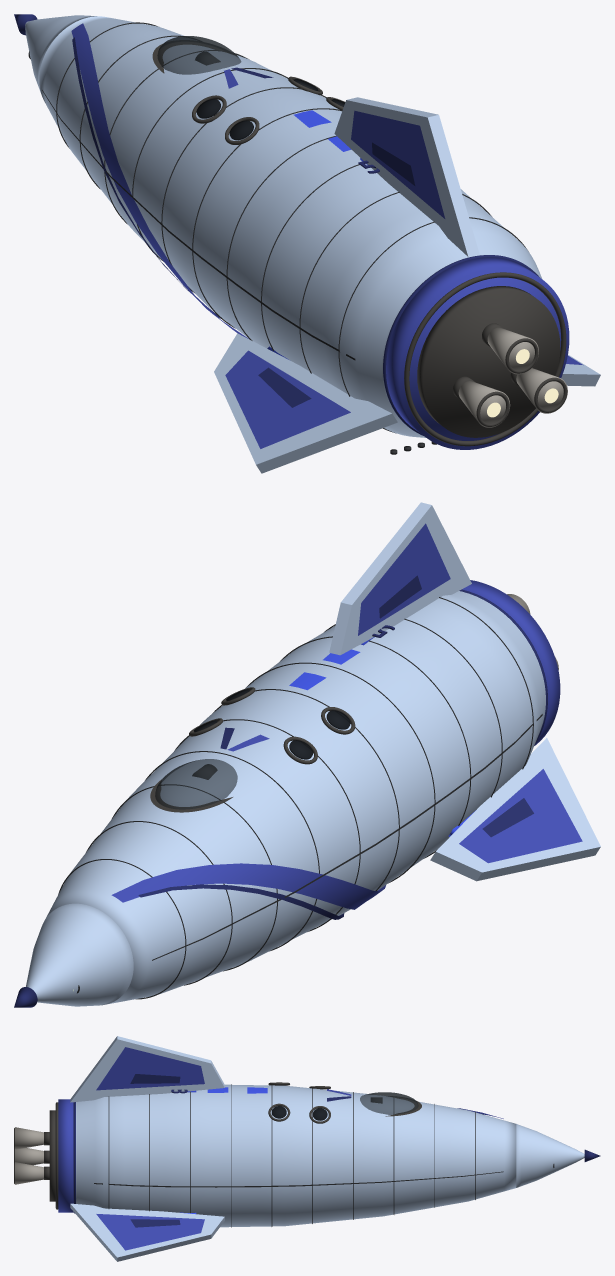
Rendered from Ship_LunarCourier_994899.glb.
The picture shows the model from 3 angles, top to bottom: view 1: azimuth 30°, elevation 25°; view 2: azimuth 150°, elevation 25°; view 3: azimuth 270°, elevation 25°; orthographic projection. The views are drawn at different scales.
Visible parts, largest first — view 1: Fuselage_TaperedPaintedBody, EngineDeck_AftDarkMountPlate, AftCollar_PrimaryEngineBand, TailFin_LeftLower_slender_CreamAerofoil, TailFin_Dorsal_slender_CreamAerofoil, TailFinPanel_LeftLower_PrimarySide_B, TailFinPanel_Dorsal_PrimarySide_A, PaintSpiralSash_PrimarySweep, AftTrimRing_DarkRear, CanopyGlass_DorsalLowInsetDome, NoseCone_PaintedNeedleSection, EngineBell_Upper_BurnishedNozzle (+8 smaller); view 2: Fuselage_TaperedPaintedBody, NoseCone_PaintedNeedleSection, TailFin_LeftLower_slender_CreamAerofoil, TailFin_Dorsal_slender_CreamAerofoil, PaintSpiralSash_PrimarySweep, TailFinPanel_LeftLower_PrimarySide_B, TailFinPanel_Dorsal_PrimarySide_A, CanopyGlass_DorsalLowInsetDome, AftCollar_PrimaryEngineBand, PaintSpiralSash_SecondaryInnerLine, HullLongitudinalSeam_02, TailFinTrimPatch_LeftLower_B; view 3: Fuselage_TaperedPaintedBody, TailFin_Dorsal_slender_CreamAerofoil, TailFin_RightLower_slender_CreamAerofoil, TailFinPanel_Dorsal_PrimarySide_B, NoseCone_PaintedNeedleSection, TailFinPanel_RightLower_PrimarySide_A, AftCollar_PrimaryEngineBand, CanopyGlass_DorsalLowInsetDome, HullLongitudinalSeam_01, EngineDeck_AftDarkMountPlate, EngineBell_RightLower_BurnishedNozzle, EngineBell_Upper_BurnishedNozzle (+4 smaller).
Part boxes in pixels (box(x1,y1,x2,y2)): Fuselage_TaperedPaintedBody: box(39, 16, 542, 437); EngineDeck_AftDarkMountPlate: box(417, 286, 560, 437); AftCollar_PrimaryEngineBand: box(386, 257, 569, 449); TailFin_LeftLower_slender_CreamAerofoil: box(214, 333, 397, 473); TailFin_Dorsal_slender_CreamAerofoil: box(334, 97, 479, 256); TailFinPanel_LeftLower_PrimarySide_B: box(225, 350, 350, 448); TailFinPanel_Dorsal_PrimarySide_A: box(351, 110, 445, 218); PaintSpiralSash_PrimarySweep: box(71, 23, 248, 338); AftTrimRing_DarkRear: box(404, 272, 566, 446); CanopyGlass_DorsalLowInsetDome: box(157, 36, 241, 74); NoseCone_PaintedNeedleSection: box(25, 15, 96, 91); EngineBell_Upper_BurnishedNozzle: box(487, 327, 538, 374); Fuselage_TaperedPaintedBody: box(44, 591, 545, 1004); NoseCone_PaintedNeedleSection: box(26, 903, 133, 1006); TailFin_LeftLower_slender_CreamAerofoil: box(430, 738, 600, 881); TailFin_Dorsal_slender_CreamAerofoil: box(329, 502, 471, 655); PaintSpiralSash_PrimarySweep: box(111, 863, 385, 909); TailFinPanel_LeftLower_PrimarySide_B: box(459, 769, 582, 863); TailFinPanel_Dorsal_PrimarySide_A: box(358, 523, 450, 635); CanopyGlass_DorsalLowInsetDome: box(155, 759, 237, 809); AftCollar_PrimaryEngineBand: box(462, 580, 560, 745); PaintSpiralSash_SecondaryInnerLine: box(138, 884, 344, 919); HullLongitudinalSeam_02: box(152, 714, 542, 960); TailFinTrimPatch_LeftLower_B: box(482, 798, 533, 837); Fuselage_TaperedPaintedBody: box(76, 1084, 516, 1227); TailFin_Dorsal_slender_CreamAerofoil: box(70, 1036, 224, 1102); TailFin_RightLower_slender_CreamAerofoil: box(70, 1203, 224, 1261); TailFinPanel_Dorsal_PrimarySide_B: box(96, 1047, 204, 1090); NoseCone_PaintedNeedleSection: box(516, 1124, 584, 1187); TailFinPanel_RightLower_PrimarySide_A: box(96, 1214, 204, 1250); AftCollar_PrimaryEngineBand: box(58, 1099, 73, 1212); CanopyGlass_DorsalLowInsetDome: box(360, 1092, 418, 1114); HullLongitudinalSeam_01: box(94, 1171, 503, 1187); EngineDeck_AftDarkMountPlate: box(49, 1110, 55, 1201); EngineBell_RightLower_BurnishedNozzle: box(15, 1162, 43, 1184); EngineBell_Upper_BurnishedNozzle: box(15, 1127, 43, 1149).
Size of the model in its own units: 3.33 by 2.95 by 8.5.
